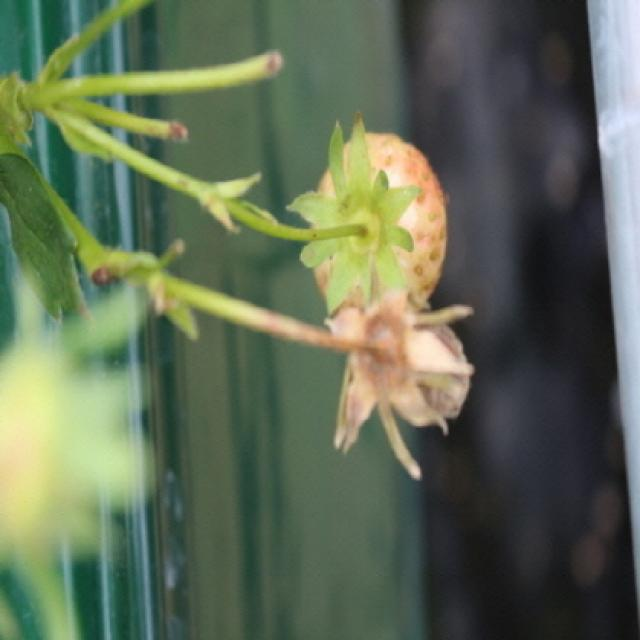Gray Mold: (267, 289, 477, 483)
